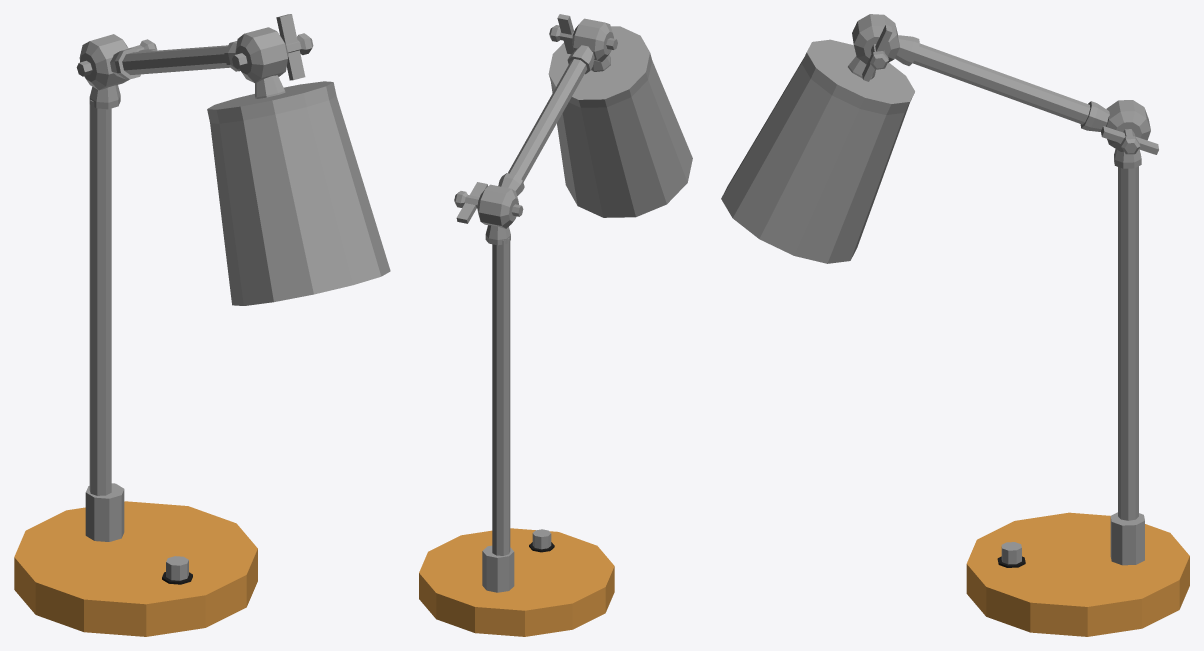
File: 1-lampfull.glb
The picture shows the model from 3 angles, left to right: view 1: azimuth 30°, elevation 25°; view 2: azimuth 150°, elevation 25°; view 3: azimuth 270°, elevation 25°; orthographic projection. The views are drawn at different scales.
Parts seen in each view (by area): view 1: group1491648249, group2132285159, lamp, group1115221507, group1076982204, group1897205691, button; view 2: group1491648249, group2132285159, lamp, group1076982204, group1115221507, group605588895, group1897205691, group644361083; view 3: group1491648249, group2132285159, lamp, group1115221507, group1076982204.
Boxes of the visible parts, x1,y1,x2,y2 form: group1491648249: (110,14,390,305); group2132285159: (14,501,257,636); lamp: (89,100,111,495); group1115221507: (85,483,124,541); group1076982204: (79,34,129,90); group1897205691: (89,85,120,109); button: (166,556,188,580); group1491648249: (498,14,692,217); group2132285159: (419,528,614,636); lamp: (492,238,510,555); group1076982204: (477,184,518,228); group1115221507: (482,545,514,592); group605588895: (456,182,488,223); group1897205691: (485,225,510,245); group644361083: (454,191,523,216); group1491648249: (721,14,1109,263); group2132285159: (966,512,1189,636); lamp: (1118,166,1138,520); group1115221507: (1110,512,1144,565); group1076982204: (1106,100,1150,151).
Bounding box in the file's own units: 0.0683 × 0.1966 × 0.1434.
